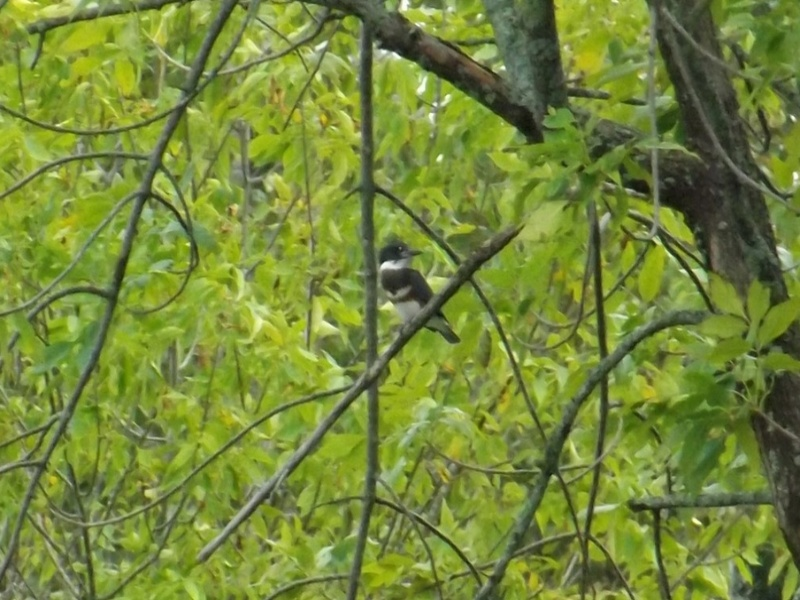kingfisher: (374, 241, 462, 346)
